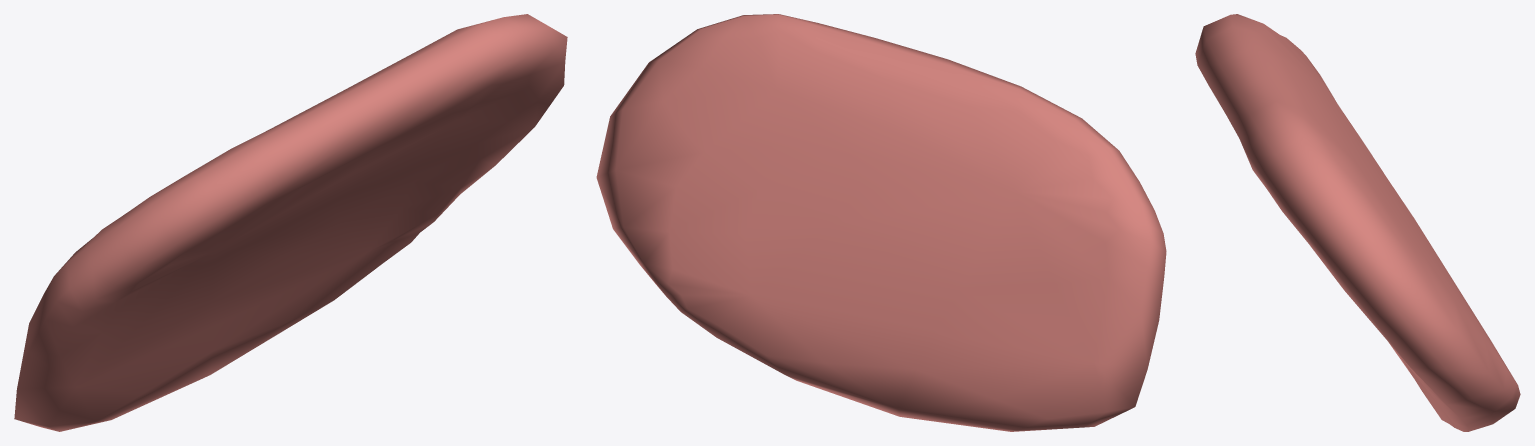
3 views of the same model, side by side, from view 1: azimuth 30°, elevation 25°; view 2: azimuth 150°, elevation 25°; view 3: azimuth 270°, elevation 25° (orthographic). The views are drawn at different scales.
Visible parts, largest first — view 1: ZA_623026fb1d999bb7; view 2: ZA_623026fb1d999bb7; view 3: ZA_623026fb1d999bb7.
Part boxes in pixels (box(x1,y1,x2,y2)): ZA_623026fb1d999bb7: box(14, 14, 567, 431); ZA_623026fb1d999bb7: box(596, 14, 1166, 431); ZA_623026fb1d999bb7: box(1195, 14, 1520, 431).
Size of the model in its own units: 0.00468 by 0.00271 by 0.00205.
